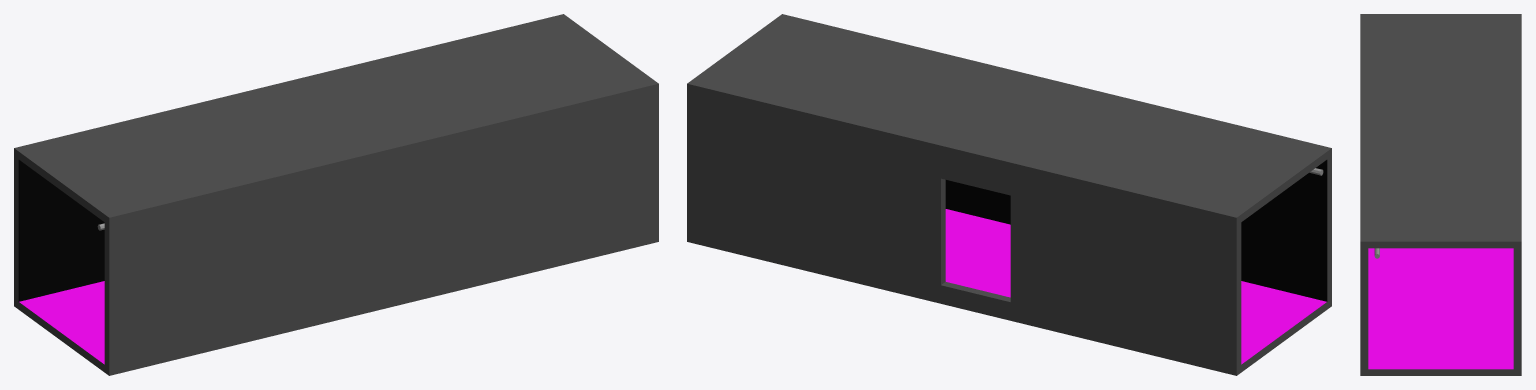
Rendered from HallDoor.fbx.
3 views of the same model, side by side, from view 1: azimuth 30°, elevation 25°; view 2: azimuth 150°, elevation 25°; view 3: azimuth 270°, elevation 25° (orthographic). The views are drawn at different scales.
Parts seen in each view (by area): view 1: Cube.001; view 2: Cube.001; view 3: Cube.001.
Part boxes in pixels (<box>): Cube.001: <box>14,14,658,375</box>; Cube.001: <box>687,14,1331,375</box>; Cube.001: <box>1360,14,1521,375</box>.
Bounding box in the file's own units: 2000 × 550 × 600.
